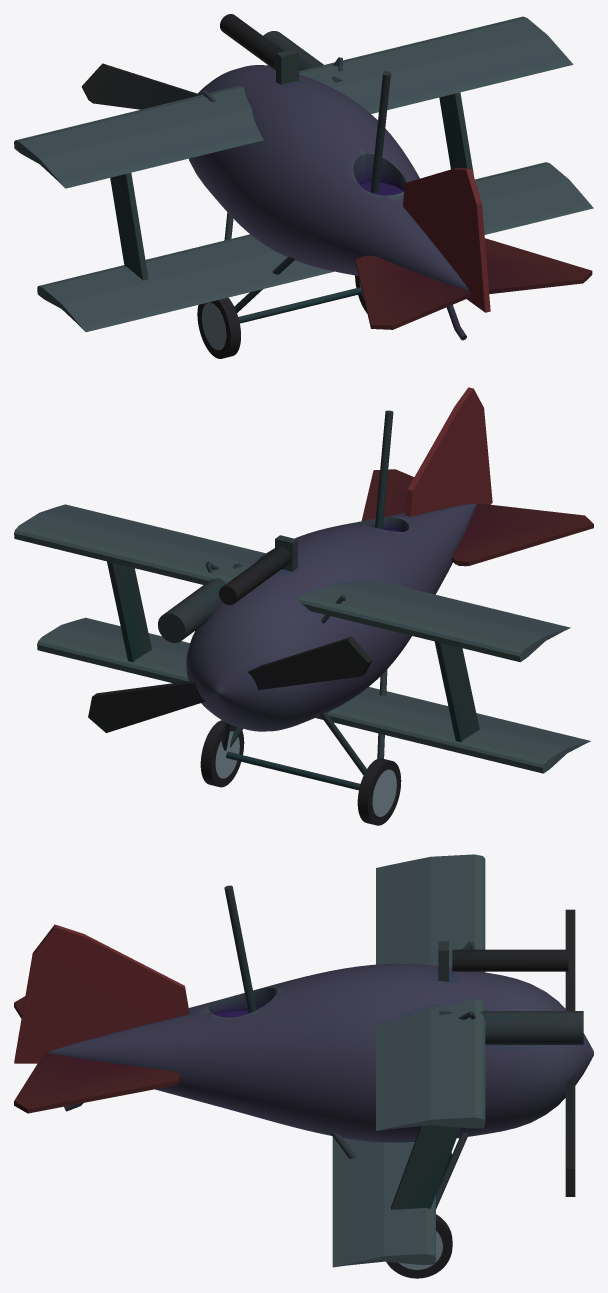
The picture shows the model from 3 angles, top to bottom: view 1: azimuth 30°, elevation 25°; view 2: azimuth 150°, elevation 25°; view 3: azimuth 270°, elevation 25°; orthographic projection. The views are drawn at different scales.
Visible parts, largest first — view 1: body, upper, lower, stabilizer, fin, propeller_blades, interplane.001, interplane, forward_tube, tire.001, mast, axle (+3 smaller); view 2: body, upper, lower, propeller_blades, fin, stabilizer, interplane, interplane.001, nose_tube, forward_tube, tire.001, tire (+4 smaller); view 3: body, upper, fin, lower, stabilizer, nose_tube, interplane, forward_tube, propeller_blades, mast, tire, gear_strut.003.
Part boxes in pixels (<box>): body: <box>189,65,468,290</box>; upper: <box>14,16,573,188</box>; lower: <box>37,162,593,332</box>; stabilizer: <box>355,238,592,329</box>; fin: <box>403,167,490,312</box>; propeller_blades: <box>81,63,197,109</box>; interplane.001: <box>110,173,148,280</box>; interplane: <box>439,92,473,175</box>; forward_tube: <box>220,14,283,70</box>; tire.001: <box>197,297,240,358</box>; mast: <box>370,71,390,192</box>; axle: <box>238,287,362,323</box>; body: <box>186,504,476,731</box>; upper: <box>14,504,570,662</box>; lower: <box>37,617,590,773</box>; propeller_blades: <box>88,636,372,732</box>; fin: <box>405,387,492,516</box>; stabilizer: <box>361,469,593,566</box>; interplane: <box>107,561,151,662</box>; interplane.001: <box>434,641,479,741</box>; nose_tube: <box>158,564,242,642</box>; forward_tube: <box>219,546,291,605</box>; tire.001: <box>357,758,401,825</box>; tire: <box>200,720,244,787</box>; body: <box>49,963,593,1142</box>; upper: <box>376,854,485,1130</box>; fin: <box>14,924,189,1063</box>; lower: <box>332,1137,435,1267</box>; stabilizer: <box>14,996,180,1113</box>; nose_tube: <box>439,1011,583,1044</box>; interplane: <box>391,1125,460,1209</box>; forward_tube: <box>452,949,568,971</box>; propeller_blades: <box>565,909,575,1196</box>; mast: <box>224,885,256,1013</box>; tire: <box>386,1214,452,1278</box>; gear_strut.003: <box>436,1132,469,1208</box>.
Size of the model in its own units: 9.5 by 5.87 by 8.86.
